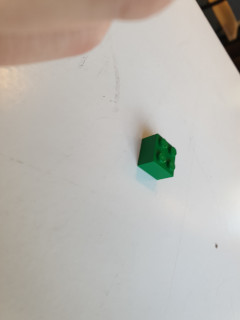2x2 green: (131, 128, 179, 185)
